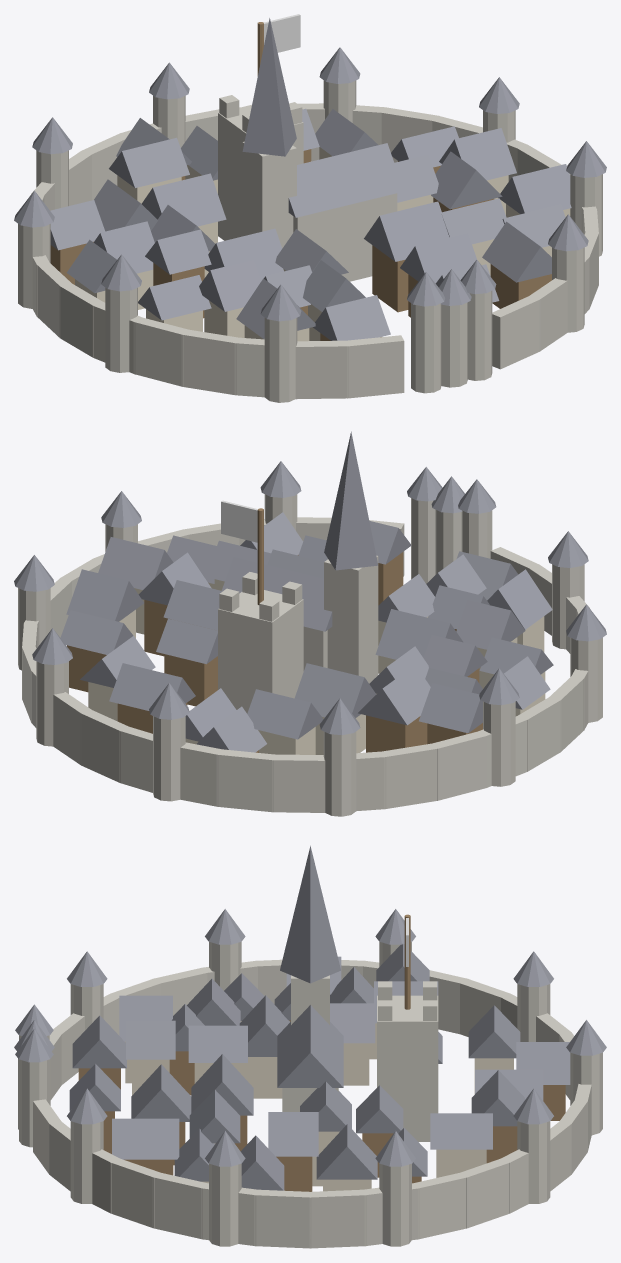
File: civ_city_medieval_metro.glb
3 renders of one model, top to bottom at view 1: azimuth 30°, elevation 25°; view 2: azimuth 150°, elevation 25°; view 3: azimuth 270°, elevation 25°, orthographic. The views are drawn at different scales.
Parts seen in each view (by area): view 1: civ_city_medieval_metro; view 2: civ_city_medieval_metro; view 3: civ_city_medieval_metro.
Part boxes in pixels (x1,y1,x2,y2): civ_city_medieval_metro: (14,14,606,402); civ_city_medieval_metro: (14,431,606,816); civ_city_medieval_metro: (14,845,606,1248).
Size of the model in its own units: 5.53 by 2.85 by 5.8.
